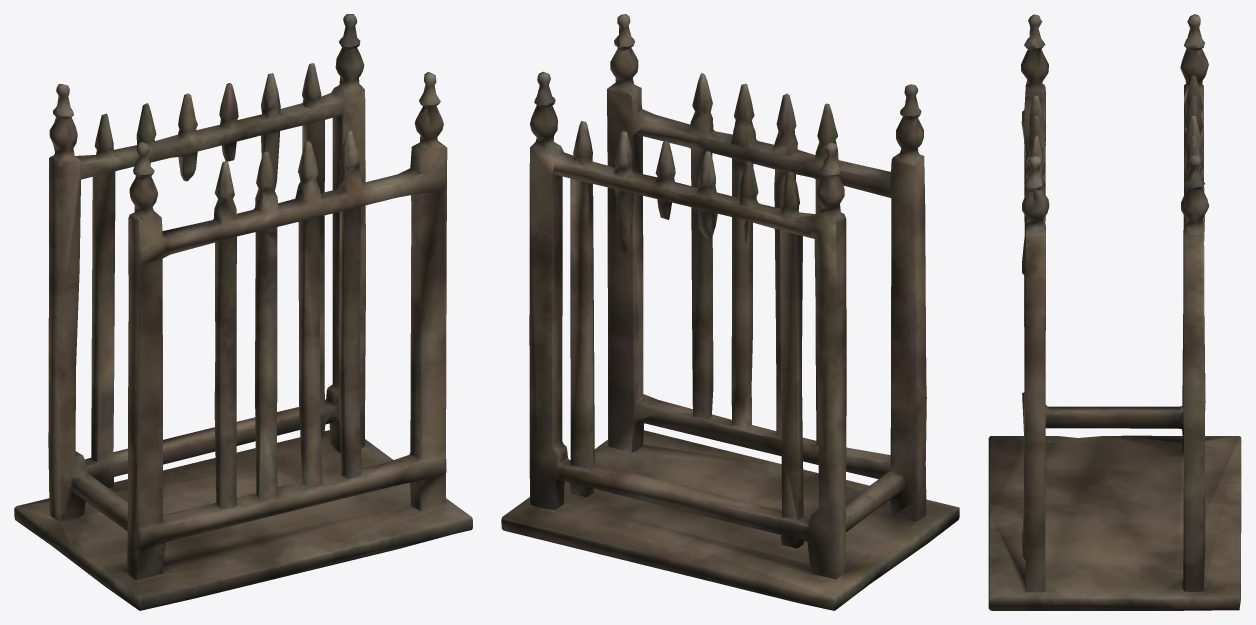
The model's file is ornate-wood-portcullis-v002.glb.
3 renders of one model, left to right at view 1: azimuth 30°, elevation 25°; view 2: azimuth 150°, elevation 25°; view 3: azimuth 270°, elevation 25°, orthographic.
Parts seen in each view (by area): view 1: ornate-wood-portcullis; view 2: ornate-wood-portcullis; view 3: ornate-wood-portcullis.
Boxes of the visible parts, left/top/right/bottom form: ornate-wood-portcullis: left=14, top=14, right=472, bottom=610; ornate-wood-portcullis: left=501, top=14, right=959, bottom=610; ornate-wood-portcullis: left=988, top=14, right=1241, bottom=610.
Size of the model in its own units: 2.46 by 3.15 by 1.61.
Materials: 1 (1 with a texture image).
